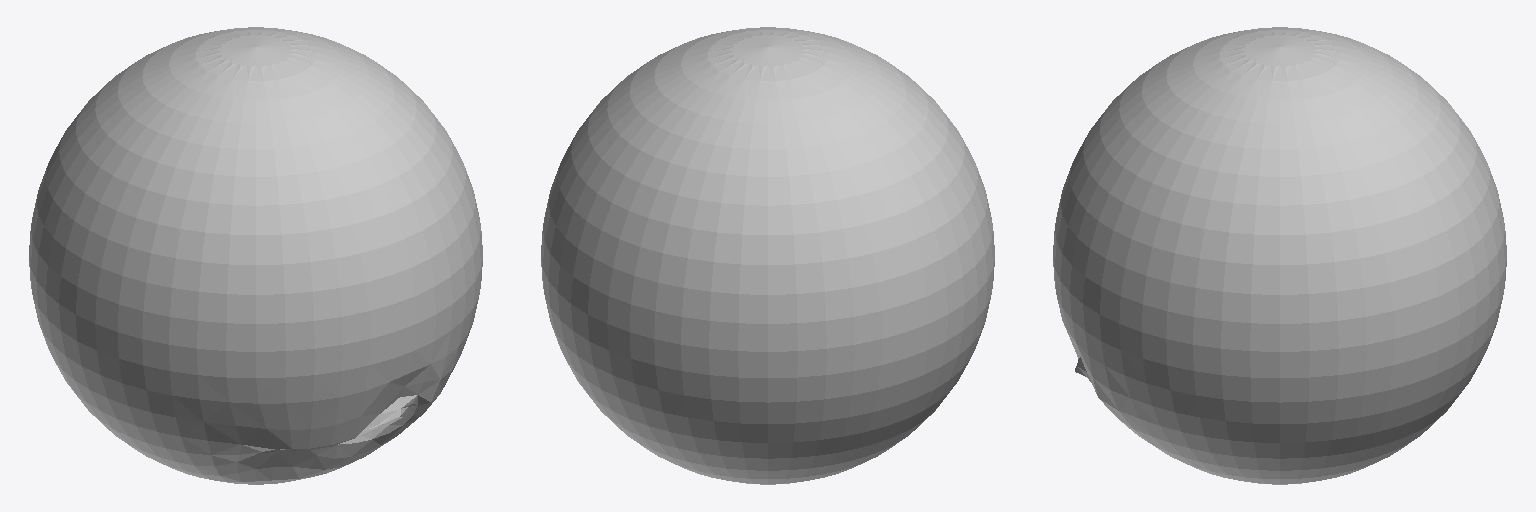
The model's file is morph_serious.obj.
3 views of the same model, side by side, from view 1: azimuth 30°, elevation 25°; view 2: azimuth 150°, elevation 25°; view 3: azimuth 270°, elevation 25° (orthographic).
Visible parts, largest first — view 1: peg_head_ui pegman_head peg_head HyperNURBS_1 HEAD; view 2: peg_head_ui pegman_head peg_head HyperNURBS_1 HEAD; view 3: peg_head_ui pegman_head peg_head HyperNURBS_1 HEAD.
Boxes of the visible parts, x1,y1,x2,y2 form: peg_head_ui pegman_head peg_head HyperNURBS_1 HEAD: [29, 27, 482, 484]; peg_head_ui pegman_head peg_head HyperNURBS_1 HEAD: [541, 27, 994, 484]; peg_head_ui pegman_head peg_head HyperNURBS_1 HEAD: [1053, 27, 1506, 484].
Bounding box in the file's own units: 88.94 × 90.26 × 88.94.